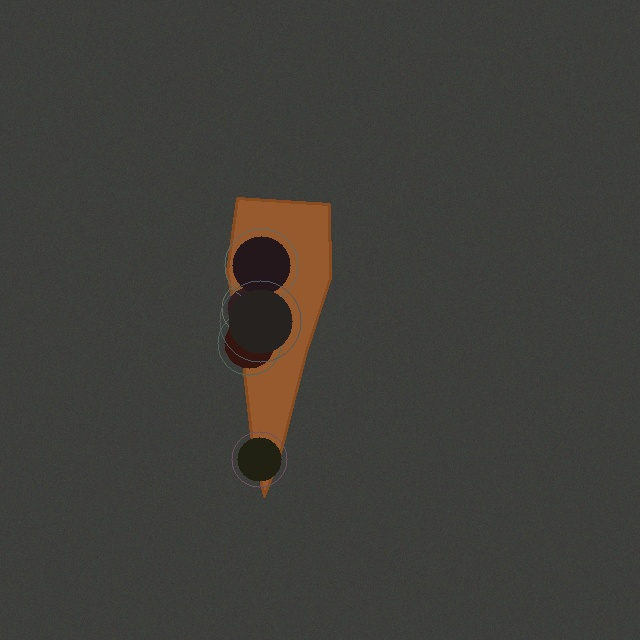Rotten_Carrot: (219, 190, 338, 504)
